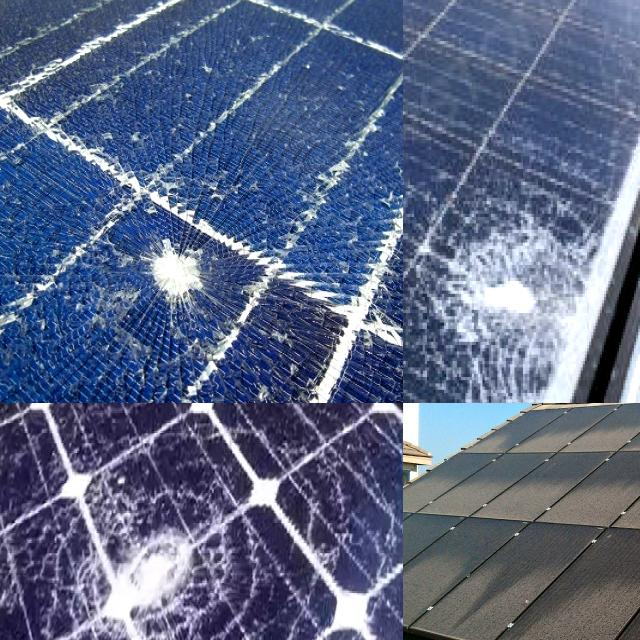dust: (488, 517, 576, 640), (551, 453, 640, 522), (456, 457, 544, 519), (595, 525, 640, 640), (403, 516, 455, 614), (514, 416, 616, 444)
hotspot: (424, 170, 603, 403), (84, 469, 223, 640), (132, 212, 236, 338)
